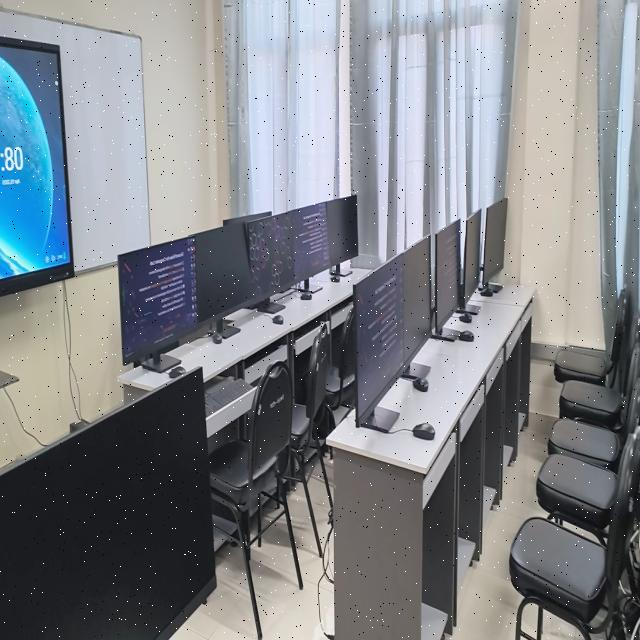Chair: (509, 426, 640, 640), (210, 362, 303, 639), (548, 310, 640, 473), (554, 289, 631, 385), (536, 454, 617, 544), (291, 323, 331, 483), (332, 307, 356, 405)
Digital board: (0, 37, 72, 278)
Monitor: (0, 370, 217, 640), (509, 427, 640, 640), (119, 237, 197, 362), (354, 255, 405, 421), (194, 218, 252, 322), (247, 214, 294, 299), (432, 220, 462, 341), (402, 237, 431, 362), (290, 203, 330, 279), (325, 195, 358, 268), (482, 199, 507, 287), (462, 211, 481, 311), (224, 294, 227, 301)
Mouse: (412, 423, 435, 440), (330, 263, 346, 282), (167, 365, 186, 378), (413, 377, 428, 392), (459, 330, 474, 341), (272, 313, 284, 325), (459, 312, 472, 323), (212, 333, 223, 344), (309, 293, 313, 299)
